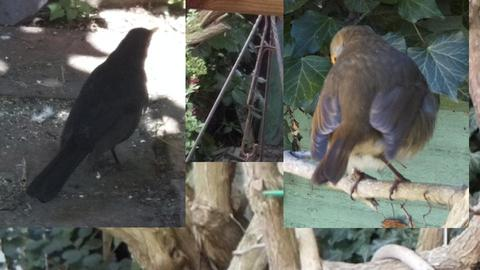blackbird: (25, 25, 160, 202)
robin: (308, 25, 444, 203)
